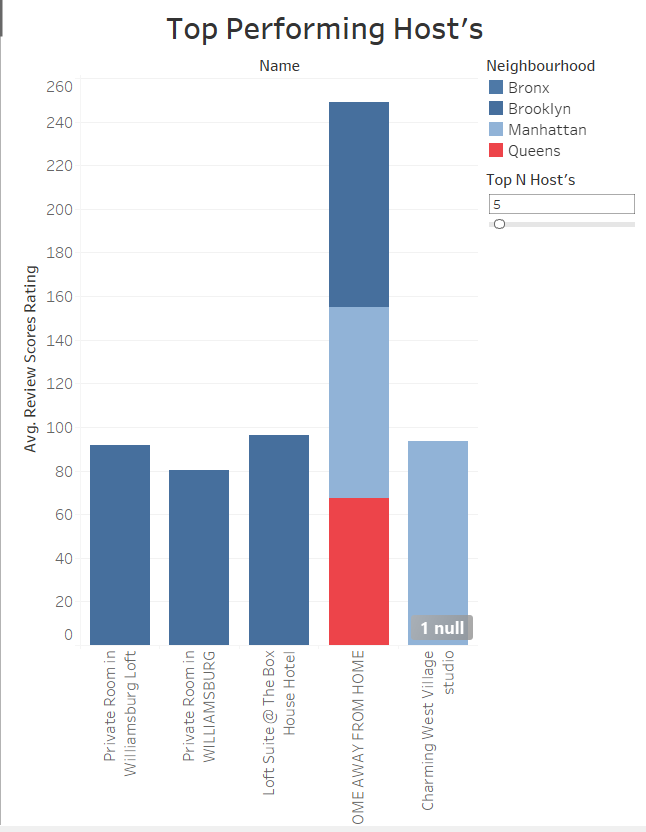

What the dashboard file says about the page in this screenshot:
{"tool":"tableau","page":{"name":"Top Performing Host's","canvas":[650,860],"ordinal":5},"visuals":[{"type":"title","box":[8,8.1,634,49.5]},{"type":"worksheet","title":"Host and average ratings","mark":"Bar","rows":["Review Scores Rating"],"cols":["Name"],"box":[8,57.5,474,794.4]},{"type":"legend","title":"Host and average ratings","param":"[federated.0j04cwu1jvj18716x07e50xo7vov].[none:Neighbourhood:nk]","box":[482,57.5,160,115.1]},{"type":"parameter","param":"[Parameters].[Parameter 3]","box":[482,172.6,160,79.7]}]}

Visuals, with their boxes in screenshot pixels (x1, y1, x2, y2), scaled from the page's 650x860 canvas onto the 646x832 screenshot:
title: locate(8, 8, 638, 56)
"Host and average ratings" worksheet (Bar marks): locate(8, 56, 479, 824)
"Host and average ratings" legend: locate(479, 56, 638, 167)
parameter: locate(479, 167, 638, 244)
